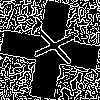X: (25, 25, 76, 66)
